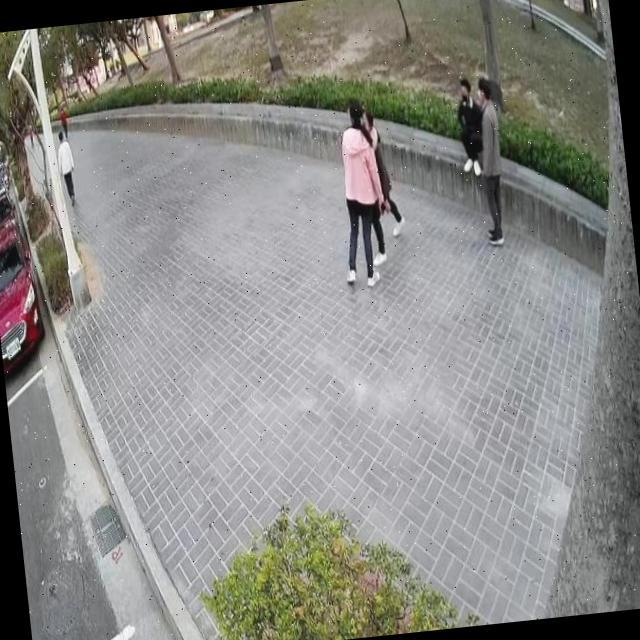person: (326, 90, 401, 291), (354, 99, 414, 269), (468, 71, 512, 248), (450, 72, 490, 180), (55, 128, 80, 210), (56, 100, 71, 138)
